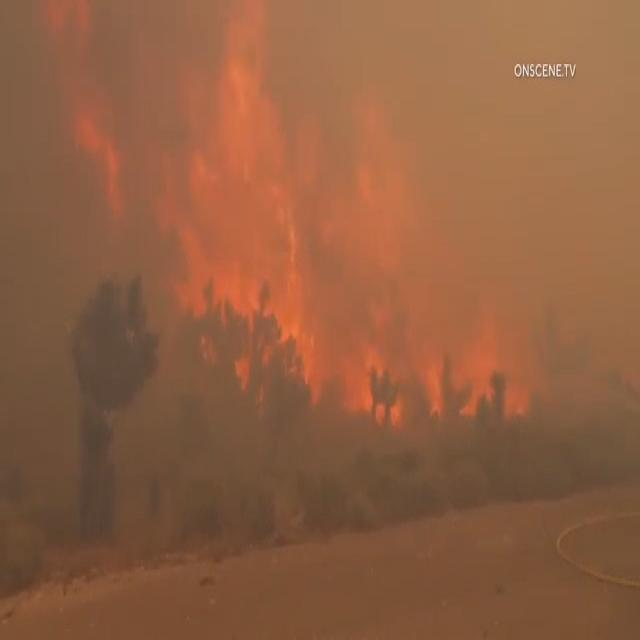fire: (187, 262, 526, 428)
smoke: (283, 17, 500, 213)
